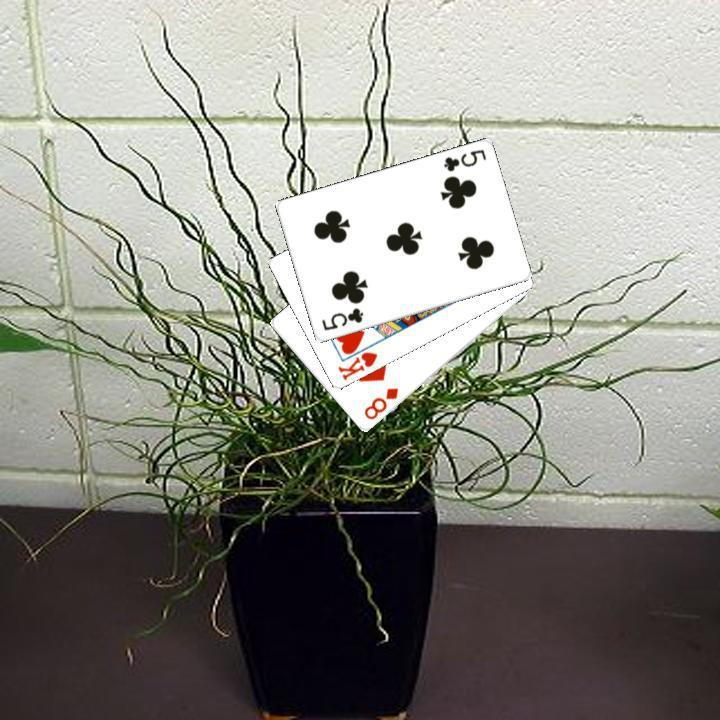5: (439, 145, 488, 174), (317, 304, 365, 333)
8: (359, 383, 400, 422)
K: (333, 348, 379, 383)
